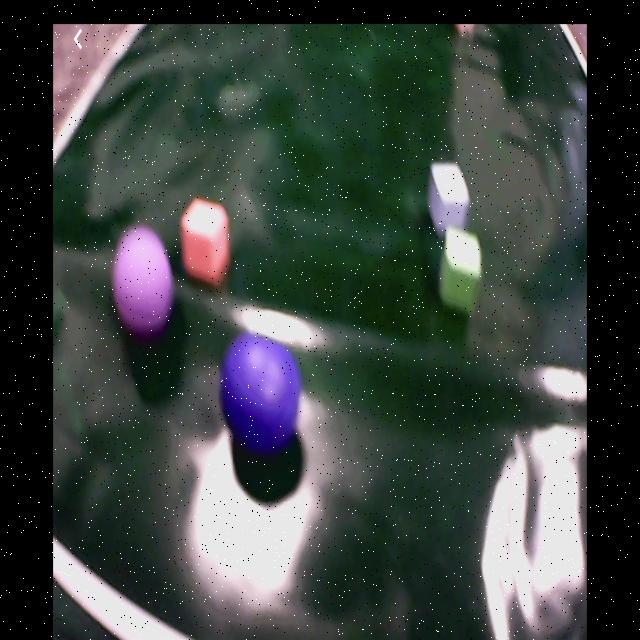ball: (222, 333, 299, 452), (113, 228, 174, 333)
